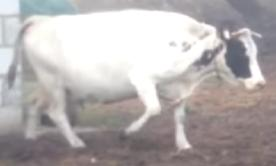cow: (8, 9, 265, 151)
